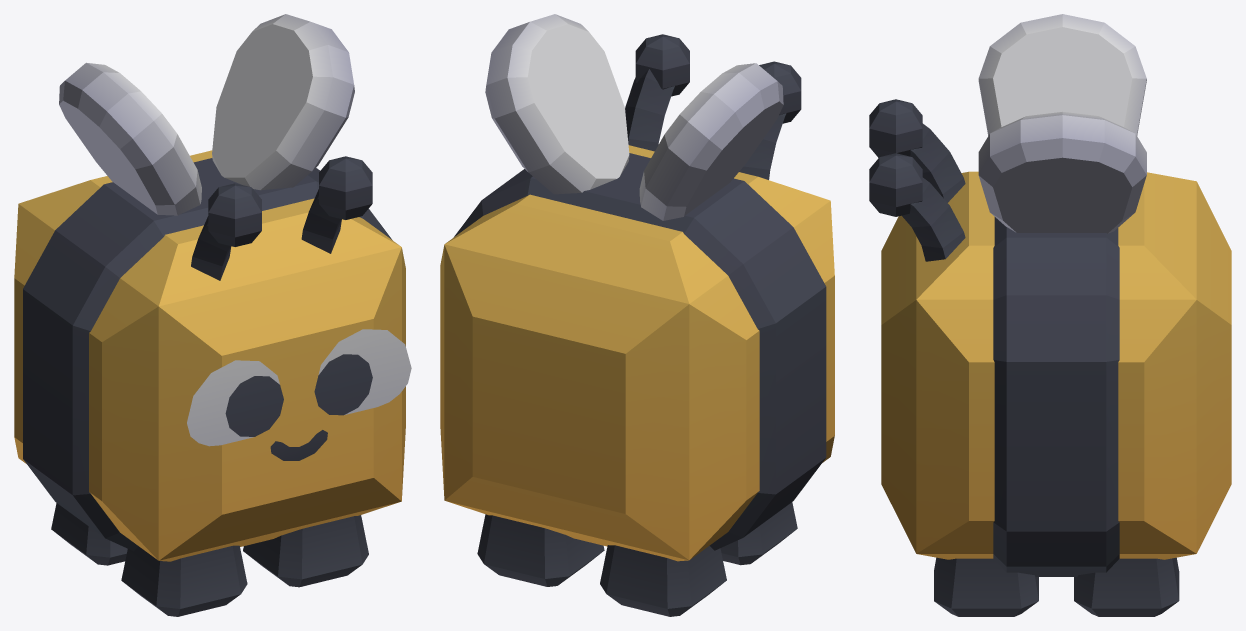
The model's file is animal-bee.glb.
3 views of the same model, side by side, from view 1: azimuth 30°, elevation 25°; view 2: azimuth 150°, elevation 25°; view 3: azimuth 270°, elevation 25° (orthographic).
Visible parts, largest first — view 1: geometry_0; view 2: geometry_0; view 3: geometry_0.
Part boxes in pixels (bbox=[...]): geometry_0: bbox=[14, 14, 411, 616]; geometry_0: bbox=[440, 14, 834, 616]; geometry_0: bbox=[869, 14, 1231, 616].
Bounding box in the file's own units: 0.5543 × 0.83 × 0.5369.
